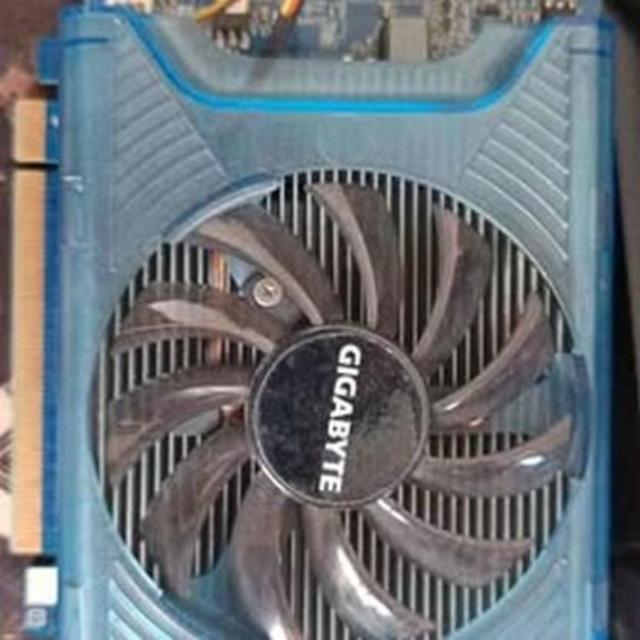GPU: (4, 3, 613, 640)
